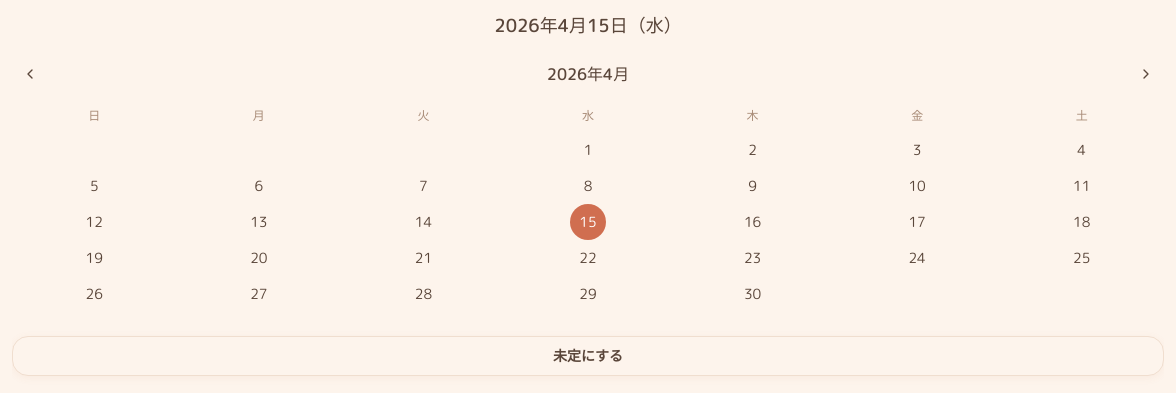
Test case: CalendarPicker › 前月ボタンで月が切り替わる
This screenshot has width=1176, height=393.
What coordinates should you click on to do the following:
click the button named "前の月"
I would click on:
 (30, 74)
Its box is [12,56,48,92].
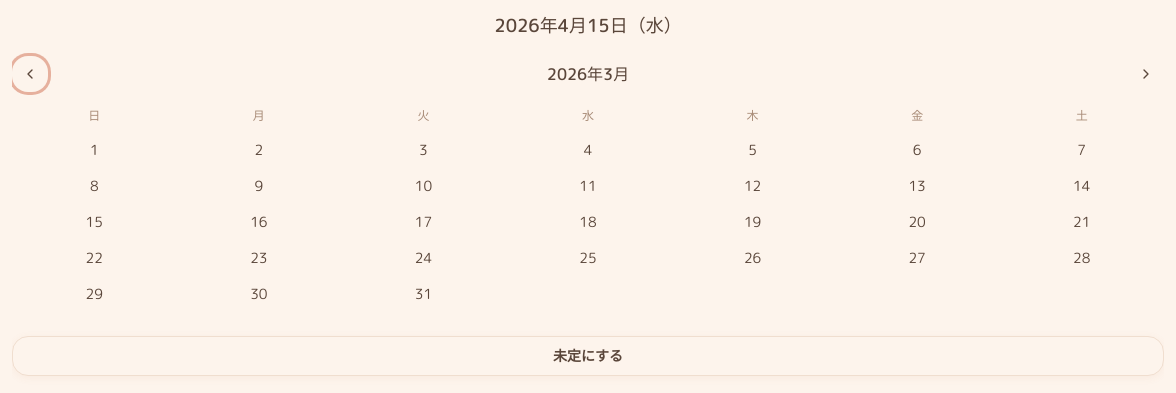
Now the table named "2026年3月" is shown, box [12,132,1164,312]
